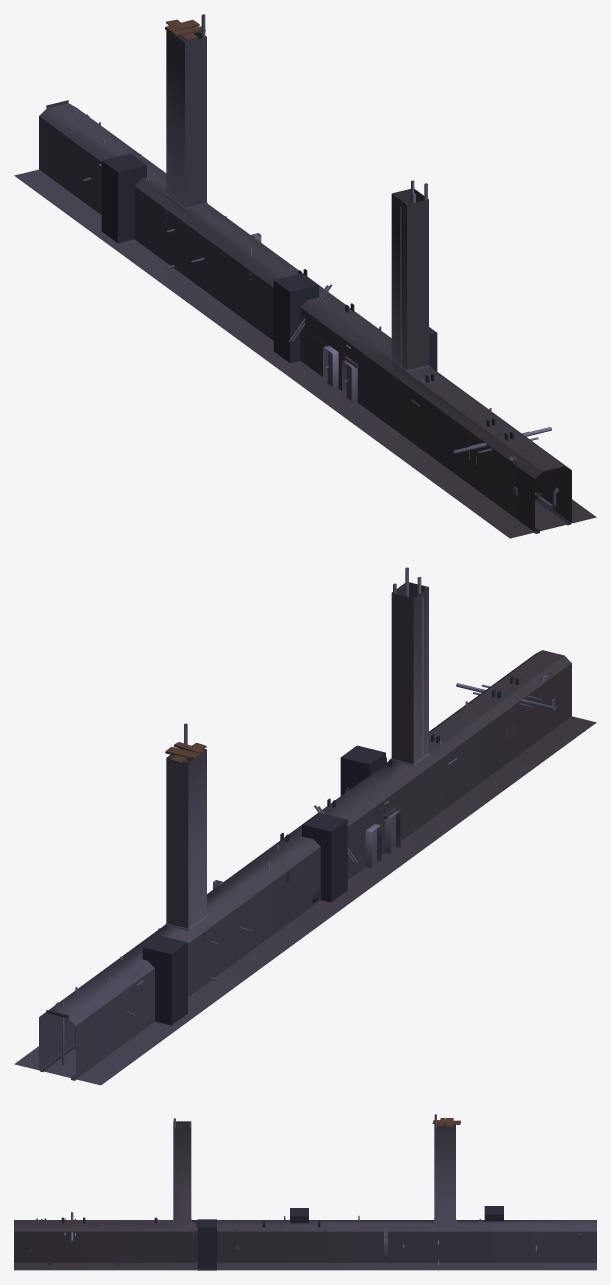
Rendered from Slums.fbx.
3 views of the same model, one above another, from view 1: azimuth 30°, elevation 25°; view 2: azimuth 150°, elevation 25°; view 3: azimuth 270°, elevation 25° (orthographic). The views are drawn at different scales.
Visible parts, largest first — view 1: HVAC.004; view 2: HVAC.004; view 3: HVAC.004.
Boxes of the visible parts, x1,y1,x2,y2 form: HVAC.004: [14, 14, 596, 538]; HVAC.004: [14, 567, 596, 1085]; HVAC.004: [14, 1114, 596, 1270].
Size of the model in its own units: 6.85 by 17.02 by 60.44.
